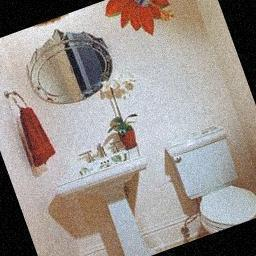Lavamanos: (57, 144, 170, 256)
Sanitario: (166, 125, 256, 237)
